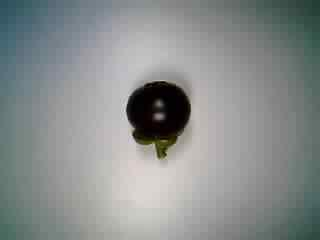mangosteen: (120, 79, 197, 161)
